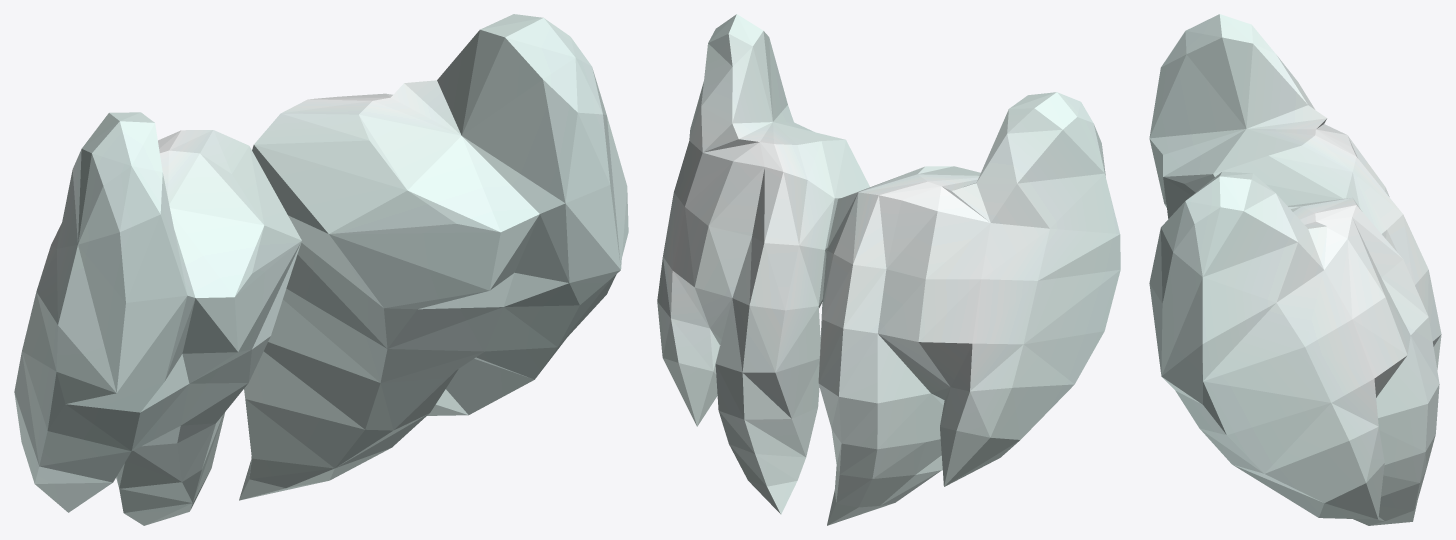
File: CharSkyKid_Hair_Beard.glb
The picture shows the model from 3 angles, left to right: view 1: azimuth 30°, elevation 25°; view 2: azimuth 150°, elevation 25°; view 3: azimuth 270°, elevation 25°; orthographic projection. The views are drawn at different scales.
Visible parts, largest first — view 1: CharSkyKid_Hair_Beard; view 2: CharSkyKid_Hair_Beard; view 3: CharSkyKid_Hair_Beard.
Part boxes in pixels (box(x1,y1,x2,y2)): CharSkyKid_Hair_Beard: box(14, 14, 628, 525); CharSkyKid_Hair_Beard: box(657, 14, 1120, 525); CharSkyKid_Hair_Beard: box(1149, 14, 1441, 525).
Size of the model in its own units: 2.71 by 2.4 by 1.53.
Materials: 1 (1 with a texture image).
